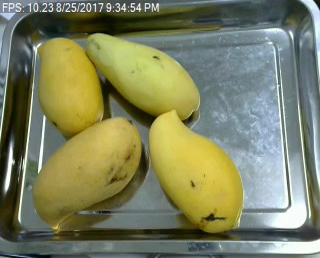Mango: (141, 102, 253, 241), (29, 109, 139, 236), (79, 28, 200, 122), (28, 32, 108, 136)
